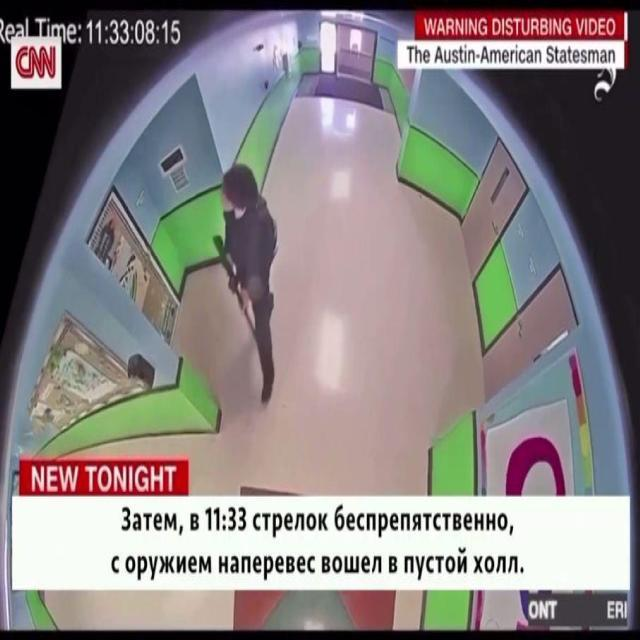pistol: (216, 229, 268, 357)
